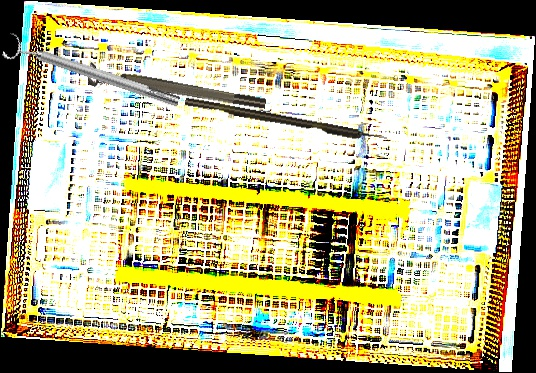Fixation Ring: (1, 30, 183, 117), (86, 61, 268, 120)
Hook Surgical: (184, 96, 388, 145)
